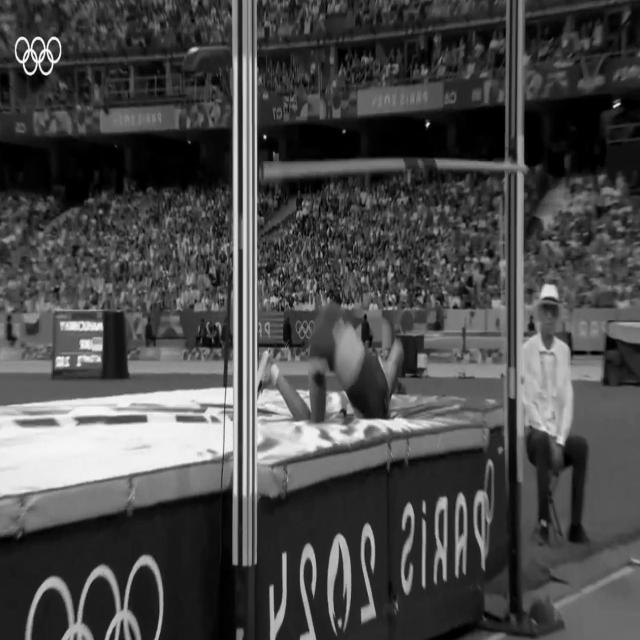land: (257, 303, 405, 421)
